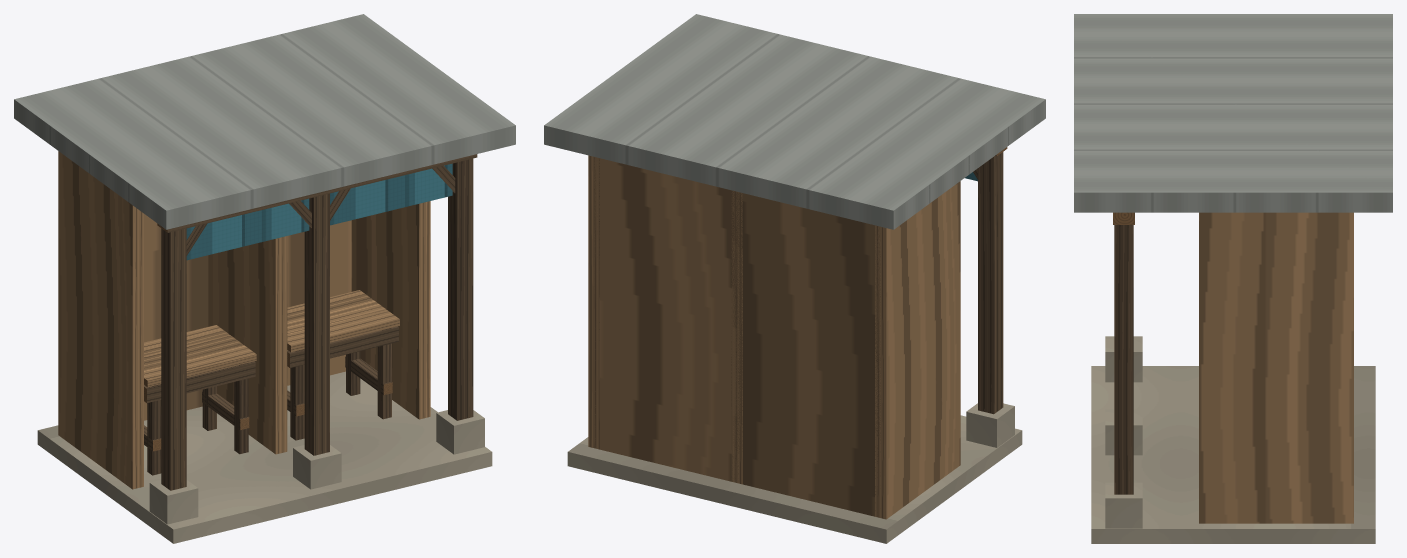
File: ramallah.glb
The picture shows the model from 3 angles, left to right: view 1: azimuth 30°, elevation 25°; view 2: azimuth 150°, elevation 25°; view 3: azimuth 270°, elevation 25°; orthographic projection. The views are drawn at different scales.
Visible parts, largest first — view 1: ramallah; view 2: ramallah; view 3: ramallah.
Part boxes in pixels (left/top/right/bottom): ramallah: left=14, top=14, right=515, bottom=543; ramallah: left=544, top=14, right=1045, bottom=543; ramallah: left=1074, top=14, right=1392, bottom=543.
Size of the model in its own units: 2.67 by 2.5 by 2.01.
Materials: 1 (1 with a texture image).
